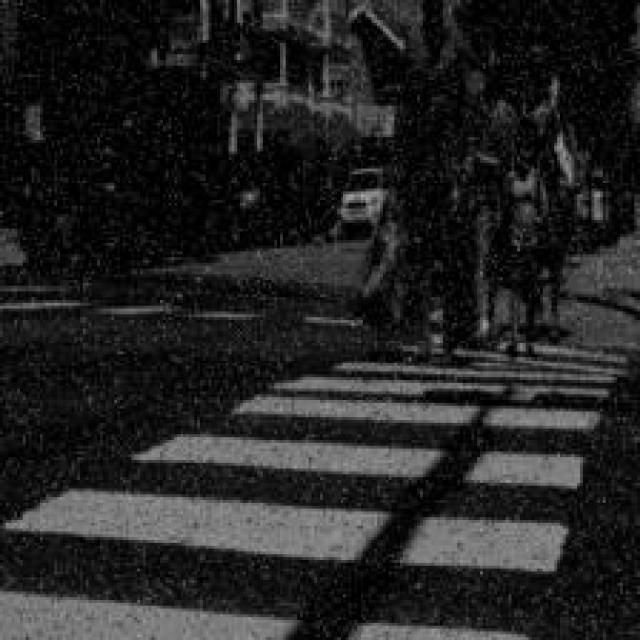crosswalk: (0, 320, 622, 638)
